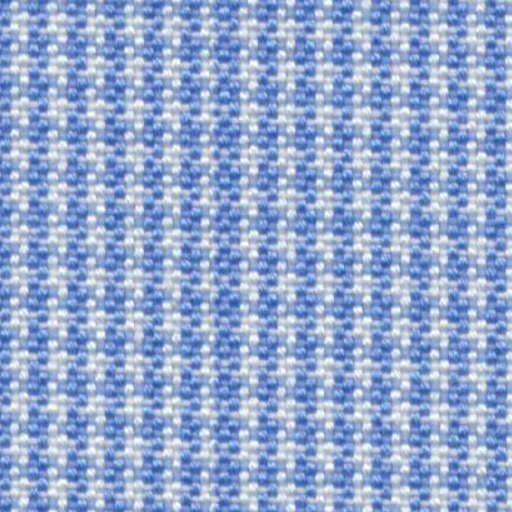TuoSha: (174, 18, 264, 495)
